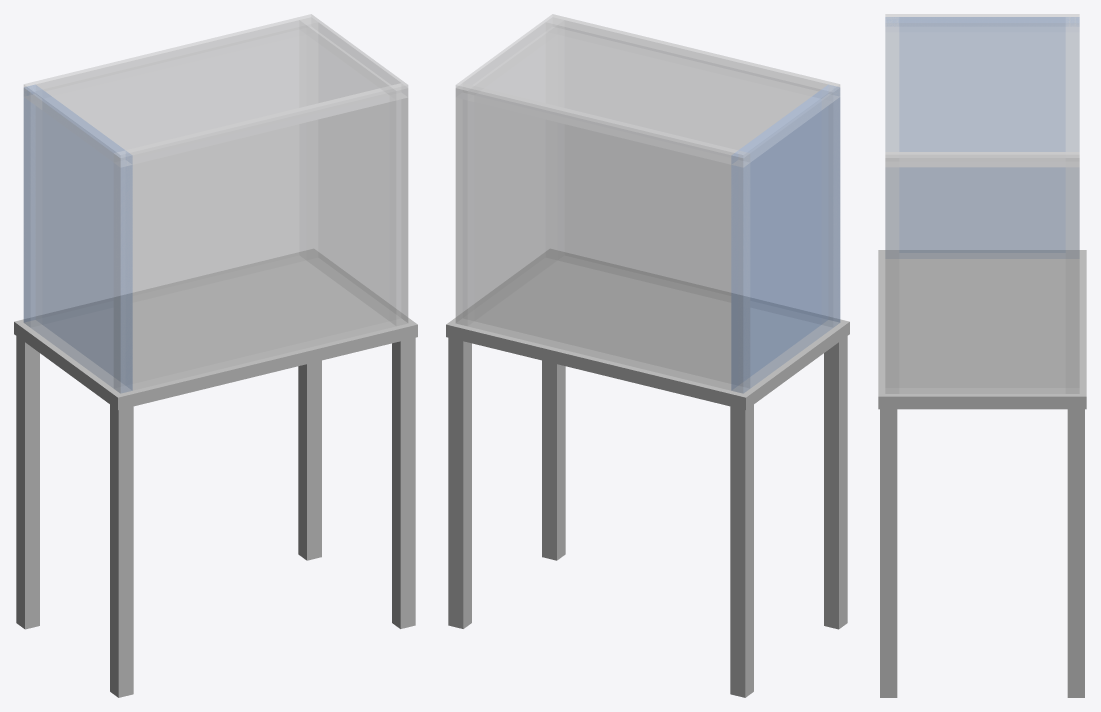
File: Gablota_nowa_a.obj
The picture shows the model from 3 angles, left to right: view 1: azimuth 30°, elevation 25°; view 2: azimuth 150°, elevation 25°; view 3: azimuth 270°, elevation 25°; orthographic projection.
Visible parts, largest first — view 1: Blat.001, Cube.004; view 2: Blat.001, Cube.004; view 3: Blat.001, Cube.004.
Boxes of the visible parts, x1=… form: Blat.001: x1=23, y1=14, x2=408, y2=393; Cube.004: x1=14, y1=249, x2=417, y2=697; Blat.001: x1=455, y1=14, x2=840, y2=393; Cube.004: x1=446, y1=249, x2=849, y2=697; Blat.001: x1=885, y1=14, x2=1079, y2=393; Cube.004: x1=878, y1=250, x2=1086, y2=697.
Bounding box in the file's own units: 1 × 1.72 × 0.6.
